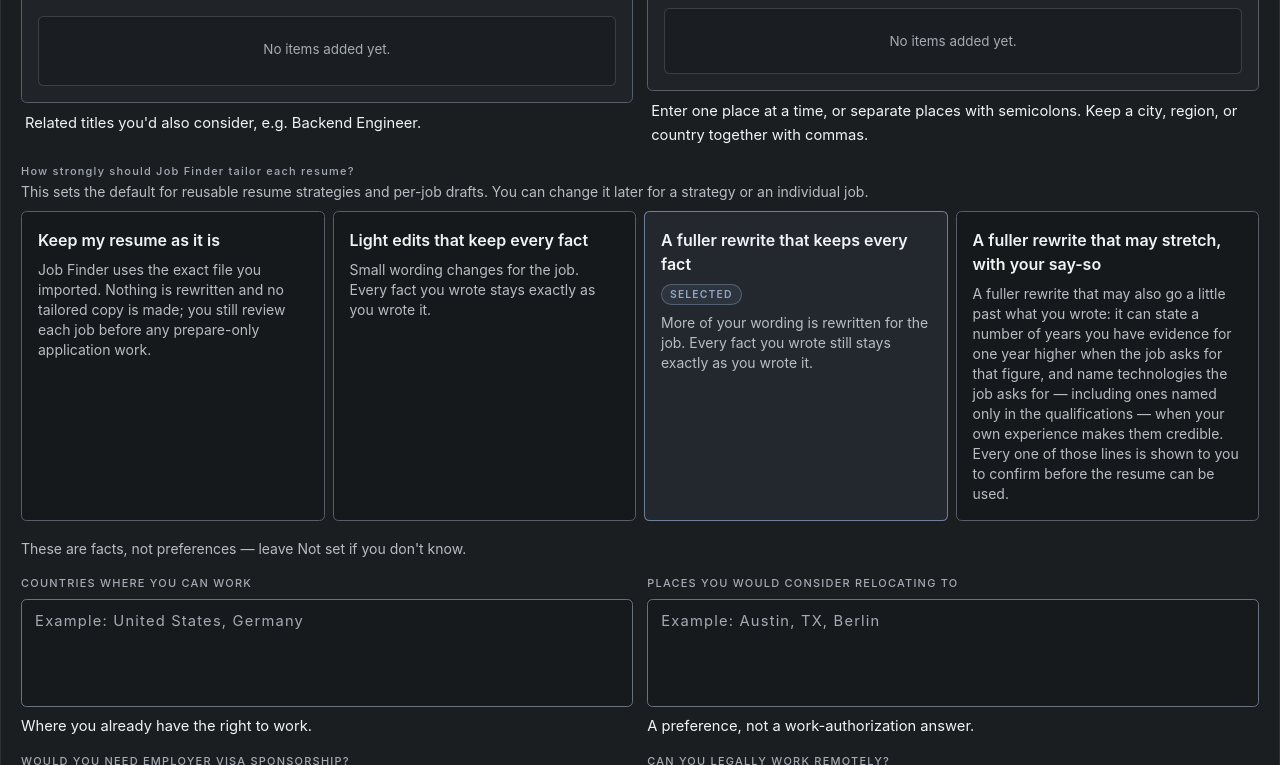
Test: profile setup customer-quality guidance › makes aggressive resume tailoring an explicit, review-required choice
(page scrolled)
Expected: the radio button that starts with "A fuller rewrite that keeps every fact" is checked, [644,211,948,521]
Step 1. Click the 4th radio button → (1107, 366), box [956,211,1259,521]
(page scrolled)
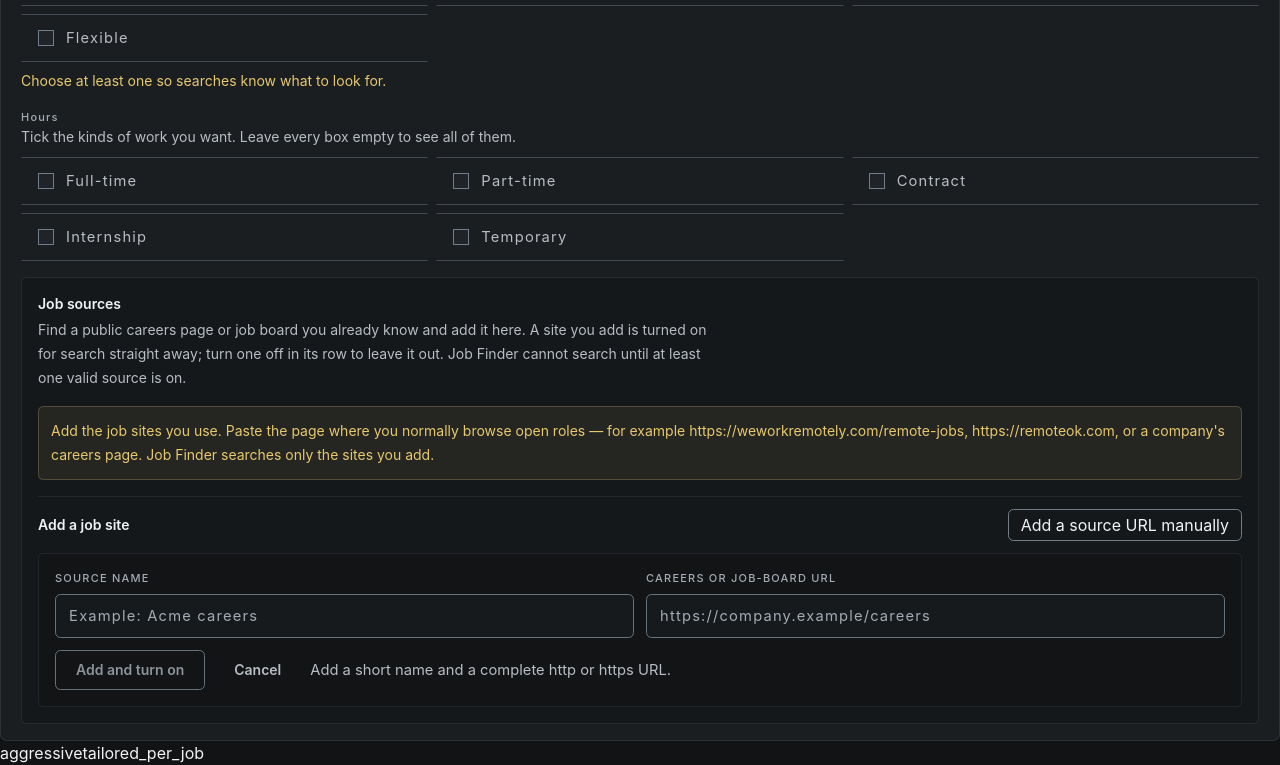
Result: the text "aggressive" is shown at [0,743,82,763]
